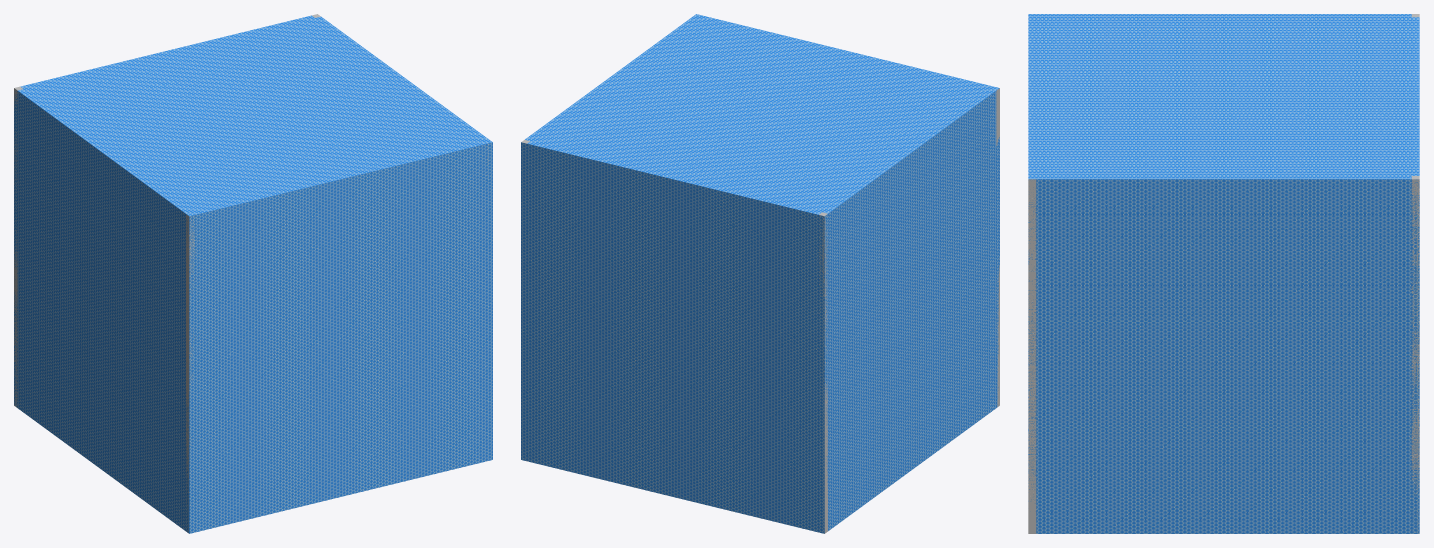
Rendered from Developer_Scene #1209103.fbx.
The picture shows the model from 3 angles, left to right: view 1: azimuth 30°, elevation 25°; view 2: azimuth 150°, elevation 25°; view 3: azimuth 270°, elevation 25°; orthographic projection. The views are drawn at different scales.
Parts seen in each view (by area): view 1: Develop_Shield, Develop_Column_1, Develop_Column_2; view 2: Develop_Shield, Develop_Column_2; view 3: Develop_Shield, Develop_Column_4, Develop_Column_3.
Boxes of the visible parts, x1=… form: Develop_Shield: x1=14, y1=15, x2=492, y2=533; Develop_Column_1: x1=186, y1=214, x2=195, y2=525; Develop_Column_2: x1=14, y1=86, x2=23, y2=407; Develop_Shield: x1=521, y1=14, x2=999, y2=533; Develop_Column_2: x1=818, y1=212, x2=827, y2=533; Develop_Shield: x1=1028, y1=14, x2=1419, y2=533; Develop_Column_4: x1=1028, y1=179, x2=1036, y2=533; Develop_Column_3: x1=1411, y1=176, x2=1419, y2=531.
Size of what is drawn, in the model's own units: 50 by 52 by 50.
